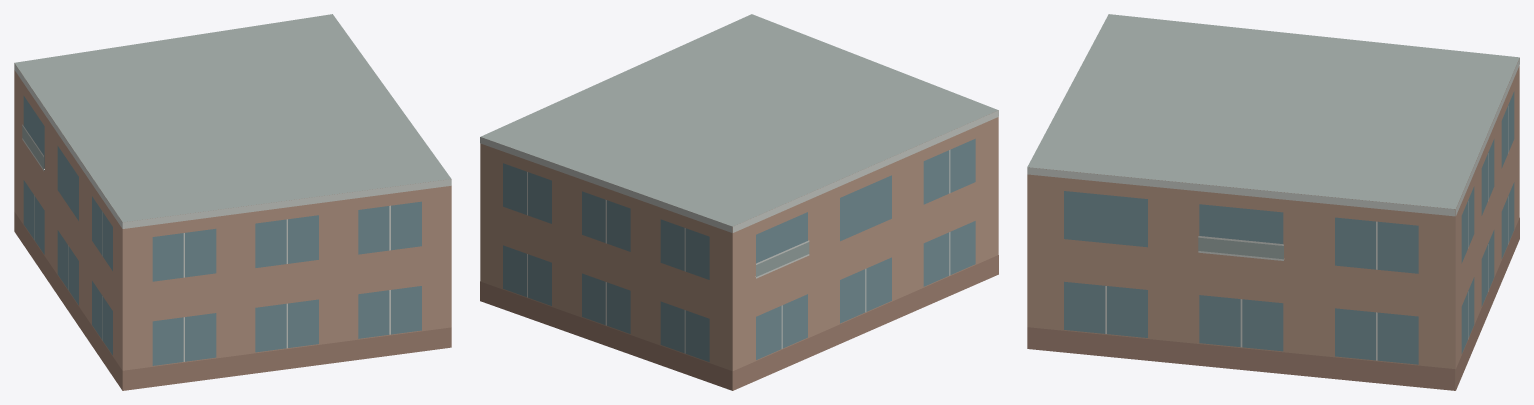
Rendered from survey-upis-32940651.glb.
3 views of the same model, side by side, from view 1: azimuth 30°, elevation 25°; view 2: azimuth 150°, elevation 25°; view 3: azimuth 270°, elevation 25° (orthographic). The views are drawn at different scales.
Parts seen in each view (by area): view 1: survey-upis-32940651.tmp; view 2: survey-upis-32940651.tmp; view 3: survey-upis-32940651.tmp.
Boxes of the visible parts, x1=… form: survey-upis-32940651.tmp: x1=14, y1=14, x2=451, y2=390; survey-upis-32940651.tmp: x1=480, y1=14, x2=998, y2=390; survey-upis-32940651.tmp: x1=1027, y1=14, x2=1519, y2=390.
Bounding box in the file's own units: 14.07 × 6.1 × 15.
